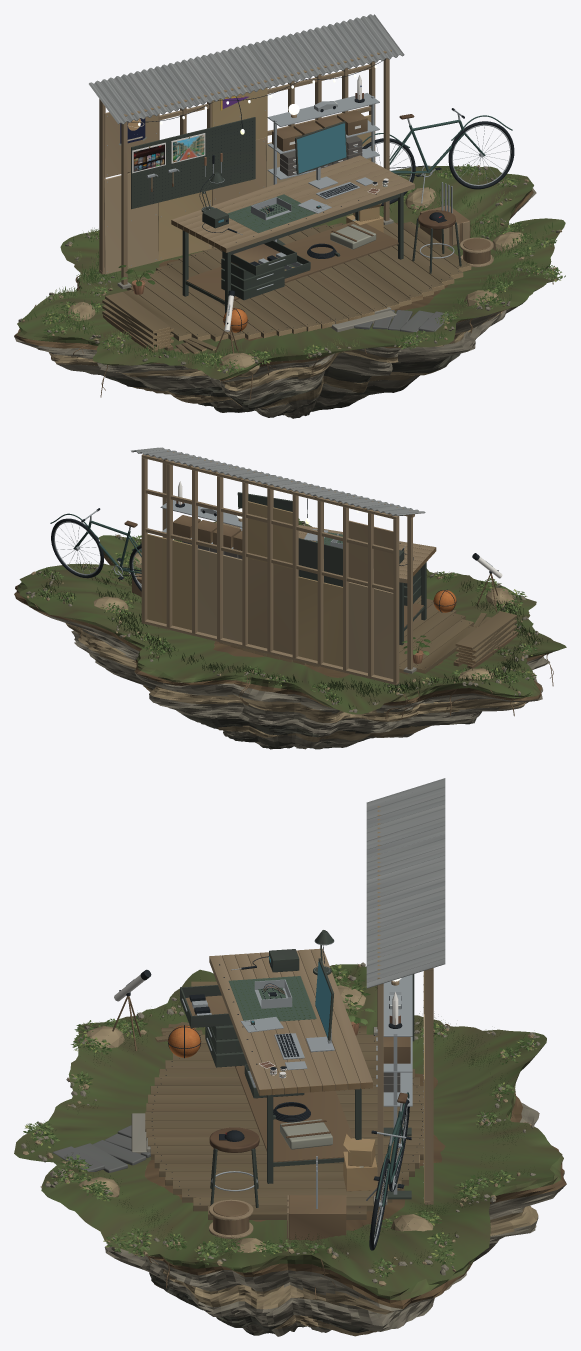
Rendered from orbit-projects-81d78af9.glb.
The picture shows the model from 3 angles, top to bottom: view 1: azimuth 30°, elevation 25°; view 2: azimuth 150°, elevation 25°; view 3: azimuth 270°, elevation 25°; orthographic projection. The views are drawn at different scales.
Parts seen in each view (by area): view 1: Projects island · browser materials, Project print · TaipeiFlix, Project print · Taipei Run; view 2: Projects island · browser materials; view 3: Projects island · browser materials.
Boxes of the visible parts, bbox=[...] form: Projects island · browser materials: bbox=[14, 14, 565, 418]; Project print · TaipeiFlix: bbox=[133, 144, 164, 171]; Project print · Taipei Run: bbox=[173, 135, 204, 162]; Projects island · browser materials: bbox=[14, 447, 566, 749]; Projects island · browser materials: bbox=[14, 778, 566, 1336].
Bounding box in the file's own units: 12.18 × 7.15 × 8.18.
47 materials, 2 textured.
